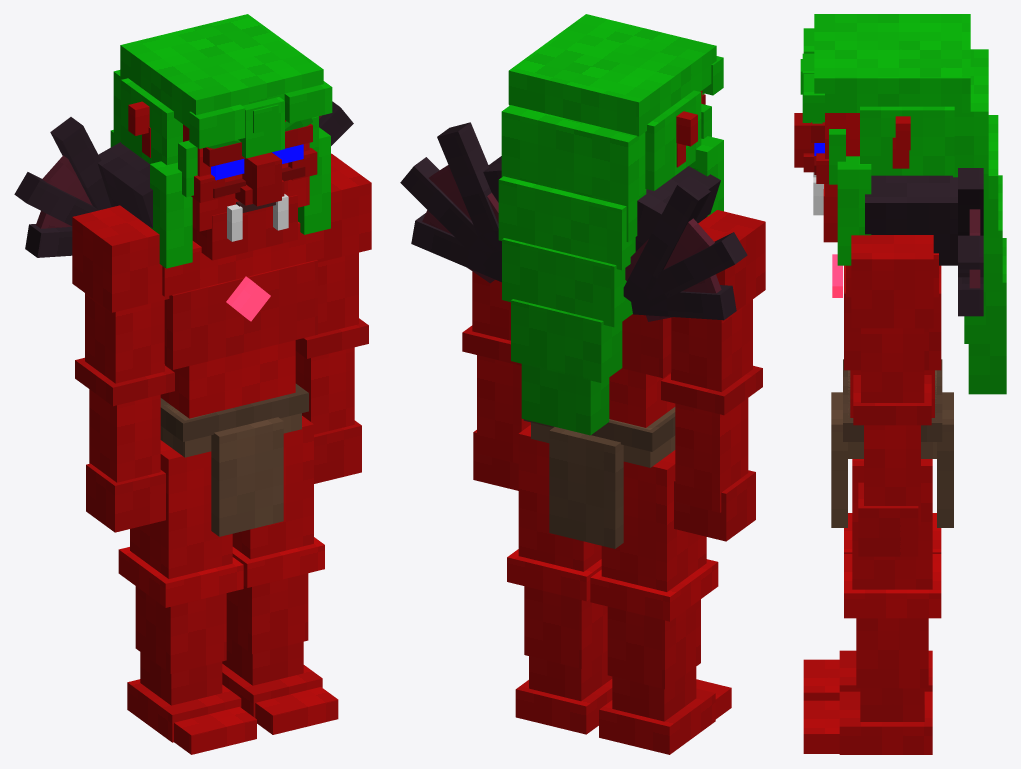
Rendered from vampire_s1_evo2.glb.
3 renders of one model, left to right at view 1: azimuth 30°, elevation 25°; view 2: azimuth 150°, elevation 25°; view 3: azimuth 270°, elevation 25°, orthographic. The views are drawn at different scales.
Visible parts, largest first — view 1: Torso, Head, LegR, ArmR, LegL, ArmL; view 2: Head, Torso, LegR, ArmR, LegL, ArmL; view 3: Head, ArmL, LegL, Torso, LegR.
Boxes of the visible parts, x1,y1,x2,y2 form: Torso: [14, 101, 353, 536]; Head: [110, 14, 332, 268]; LegR: [118, 440, 256, 754]; ArmR: [72, 205, 174, 532]; LegL: [222, 416, 338, 734]; ArmL: [295, 153, 371, 483]; Head: [498, 14, 723, 435]; Torso: [400, 122, 747, 548]; LegR: [590, 450, 731, 754]; ArmR: [661, 210, 765, 541]; LegL: [507, 425, 612, 734]; ArmL: [462, 271, 530, 490]; Head: [794, 14, 1006, 394]; ArmL: [851, 235, 933, 556]; LegL: [803, 459, 941, 754]; Torso: [831, 168, 983, 527]; LegR: [803, 513, 941, 700].
Bounding box in the file's own units: 0.9247 × 1.75 × 0.5025.
Materials: 27 (27 with a texture image).
